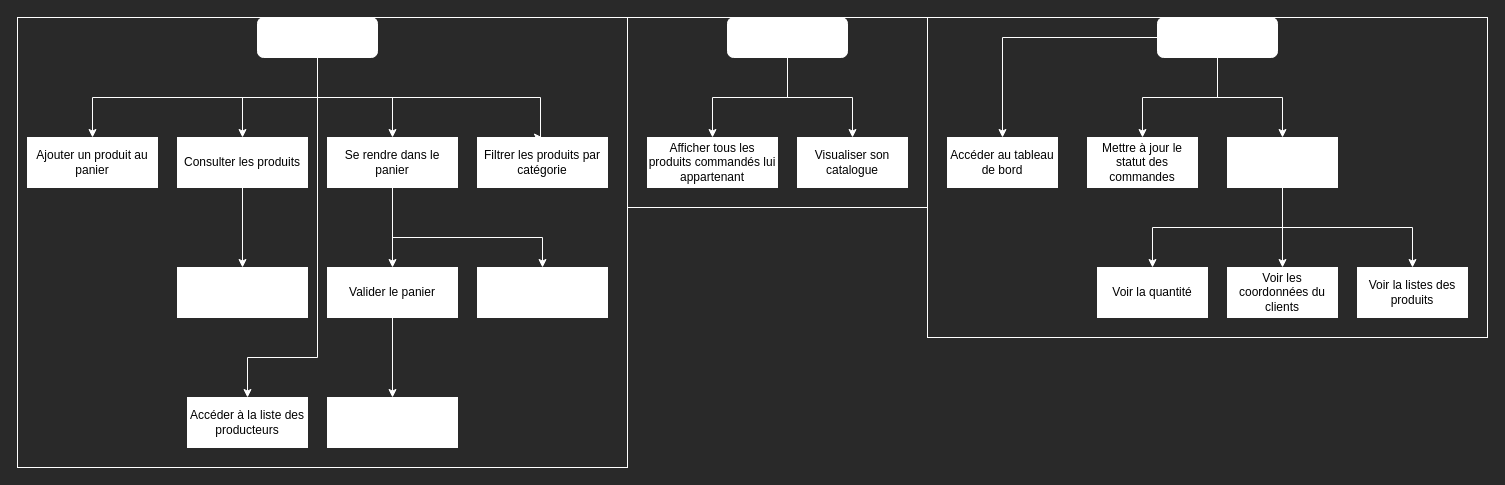
The diagram is 1505 pixels wide and 485 high, and some of its shapes have lost their labels. Here are the shapes that lost their labels. From the top down, the box of each, then its label:
(256, 16, 378, 58): Client
(726, 16, 848, 58): Producteur
(1156, 16, 1278, 58): Cooperative
(1226, 136, 1338, 188): Voir les commandes
(176, 266, 308, 318): Accéder à la fiche détaillée d'un produit
(476, 266, 608, 318): Consulter son panier
(326, 396, 458, 448): Remplir ses coordonnées et valider la commande
